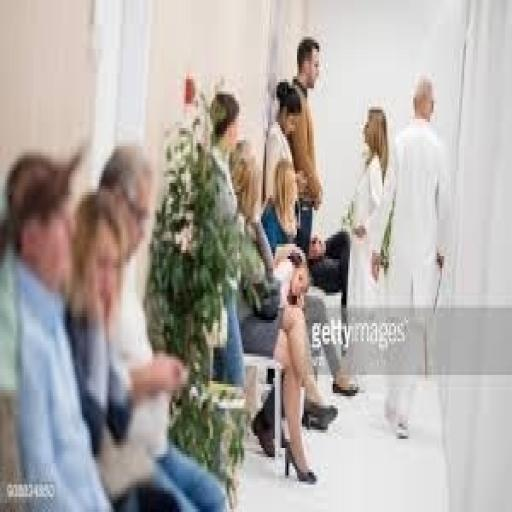sitting: (2, 140, 227, 509)
